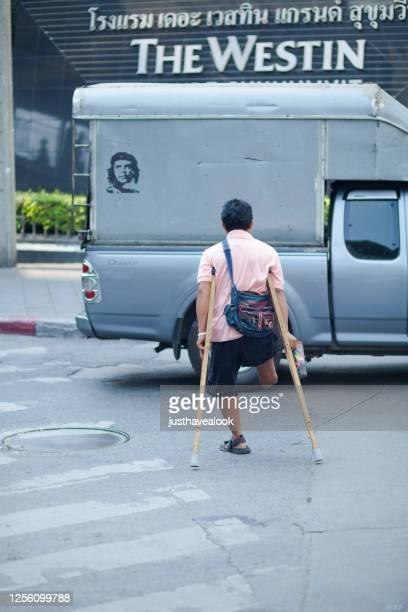crutches: (174, 185, 335, 482)
